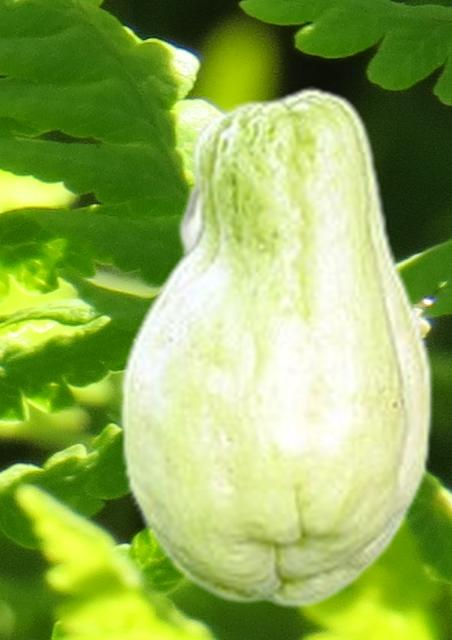sayote: (118, 86, 432, 608)
